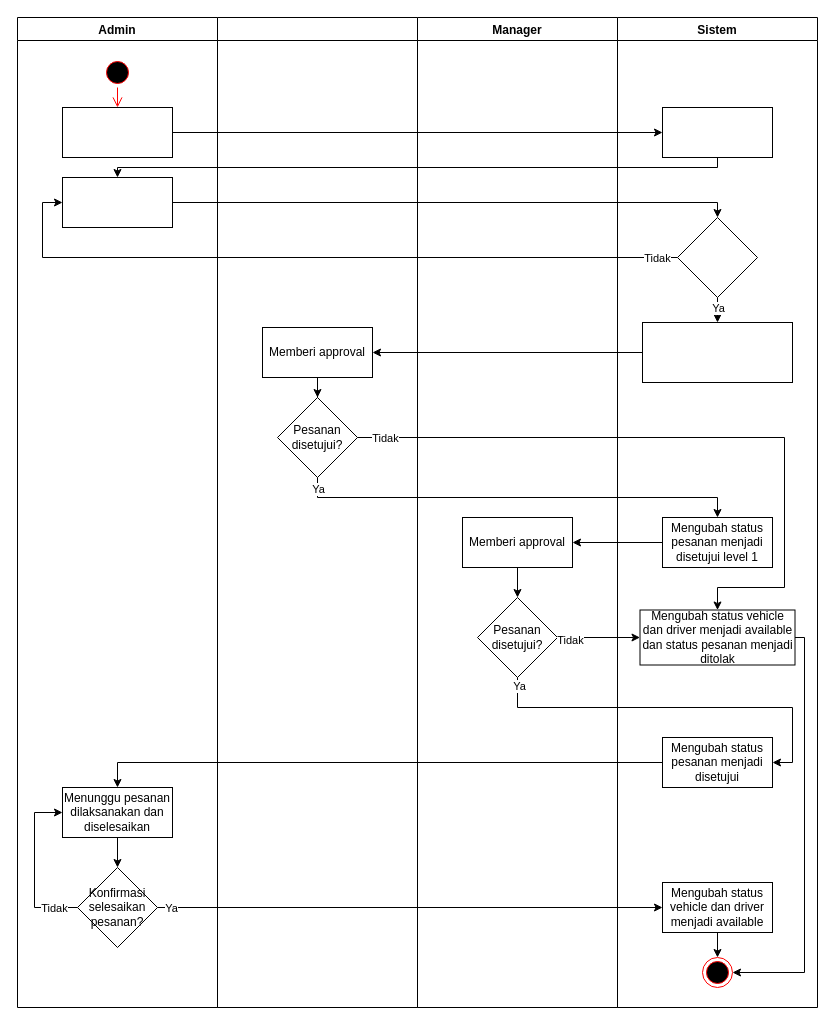
Image size: 835x1025. Some labels were removed from this diagram. Each missing label, with the box of its shape:
input valid?: (676, 216, 758, 298)
Membuka form pemesanan: (62, 106, 172, 158)
Menampilkan form pemesanan: (662, 106, 772, 158)
Mengisi form pemesanan: (62, 176, 172, 228)
Mengubah status vehicle dan driver menjadi reserved dan membuat approval: (642, 322, 792, 382)
SPV: (216, 16, 418, 1008)
